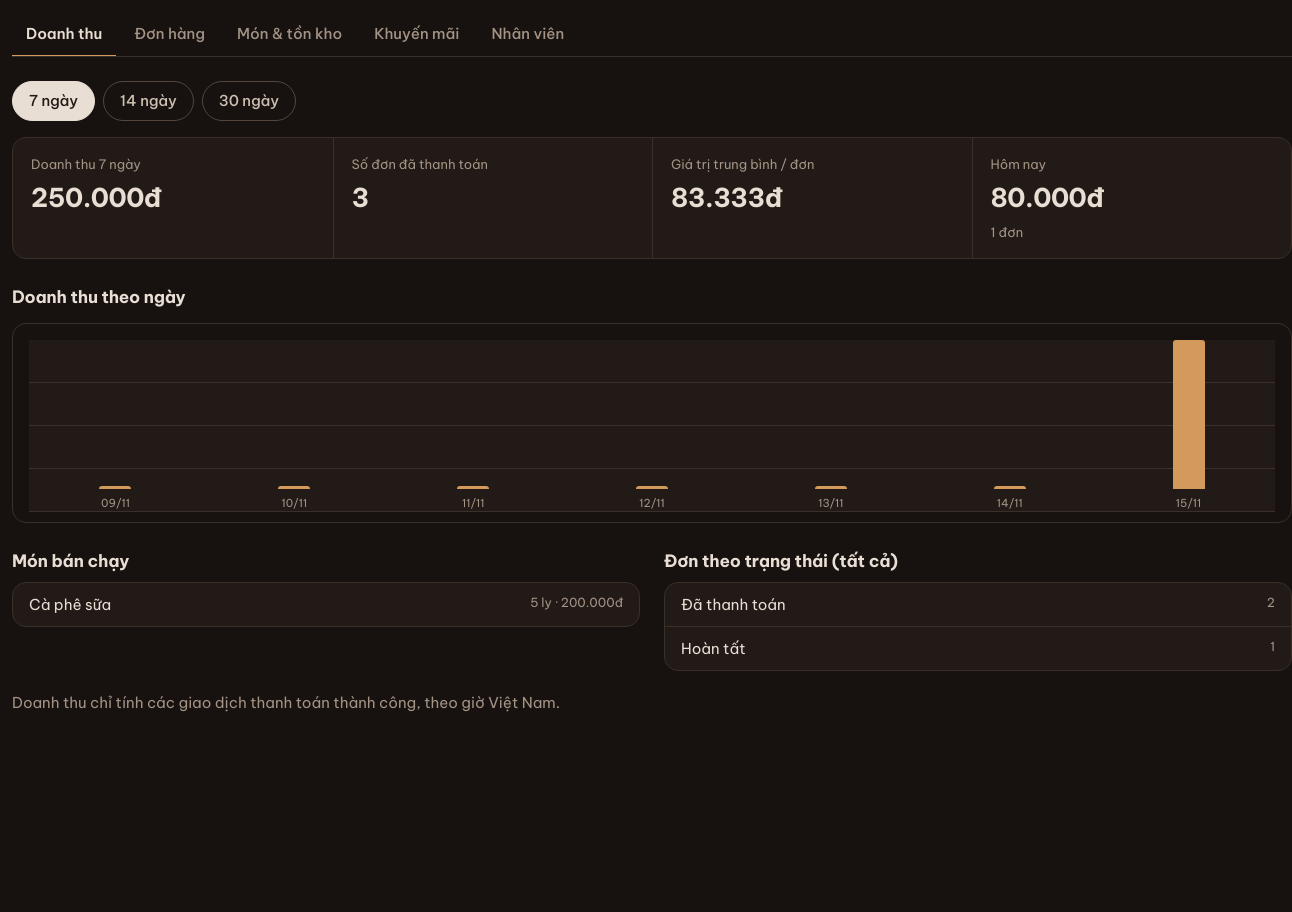
Scenario: AdminDashboard › tạo nhân viên: kiểm tra mật khẩu ở client, hợp lệ thì gọi API và thêm vào danh sách
Click the tab "Nhân viên". click: {"x": 528, "y": 35}
box: x1=478 y1=12 x2=578 y2=57
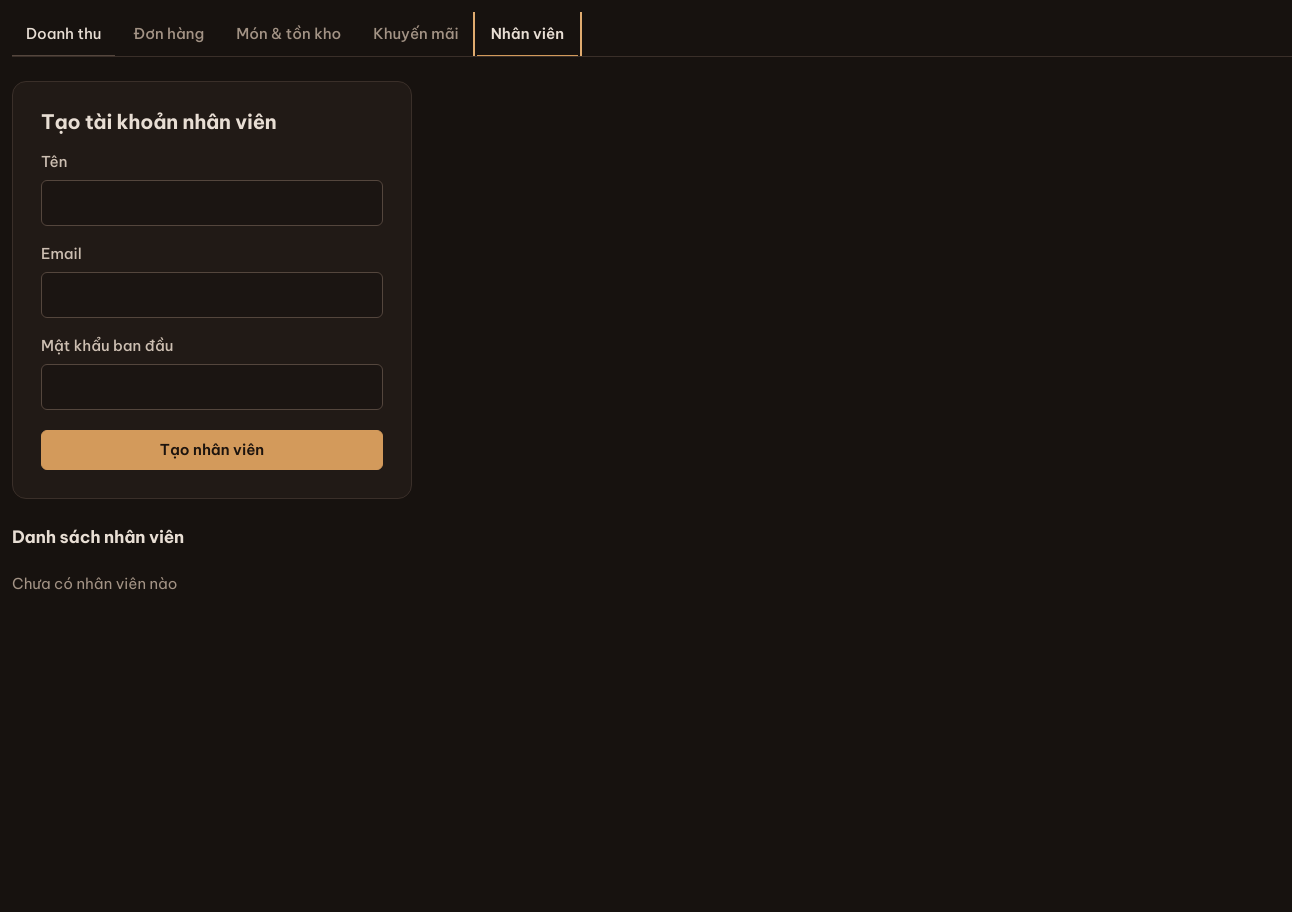
Type "Mới" into the field labelled "Tên". click: {"x": 212, "y": 203}
box: x1=41 y1=180 x2=383 y2=226
Type "m@b.com" into the field labelled "Email". click: {"x": 212, "y": 295}
box: x1=41 y1=272 x2=383 y2=318
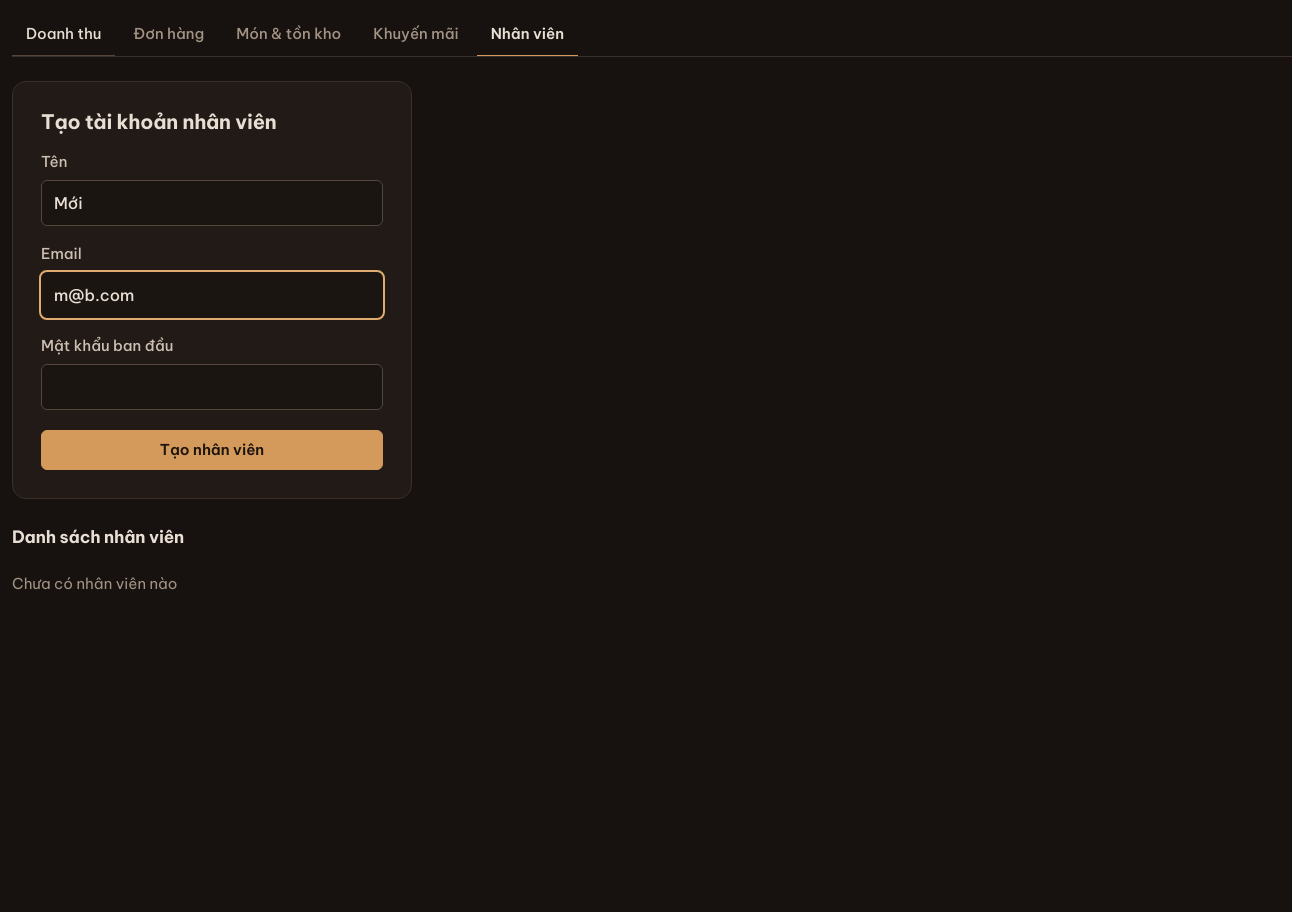
Type "123" into the password field labelled "Mật khẩu ban đầu". click: {"x": 212, "y": 387}
box: x1=41 y1=364 x2=383 y2=410
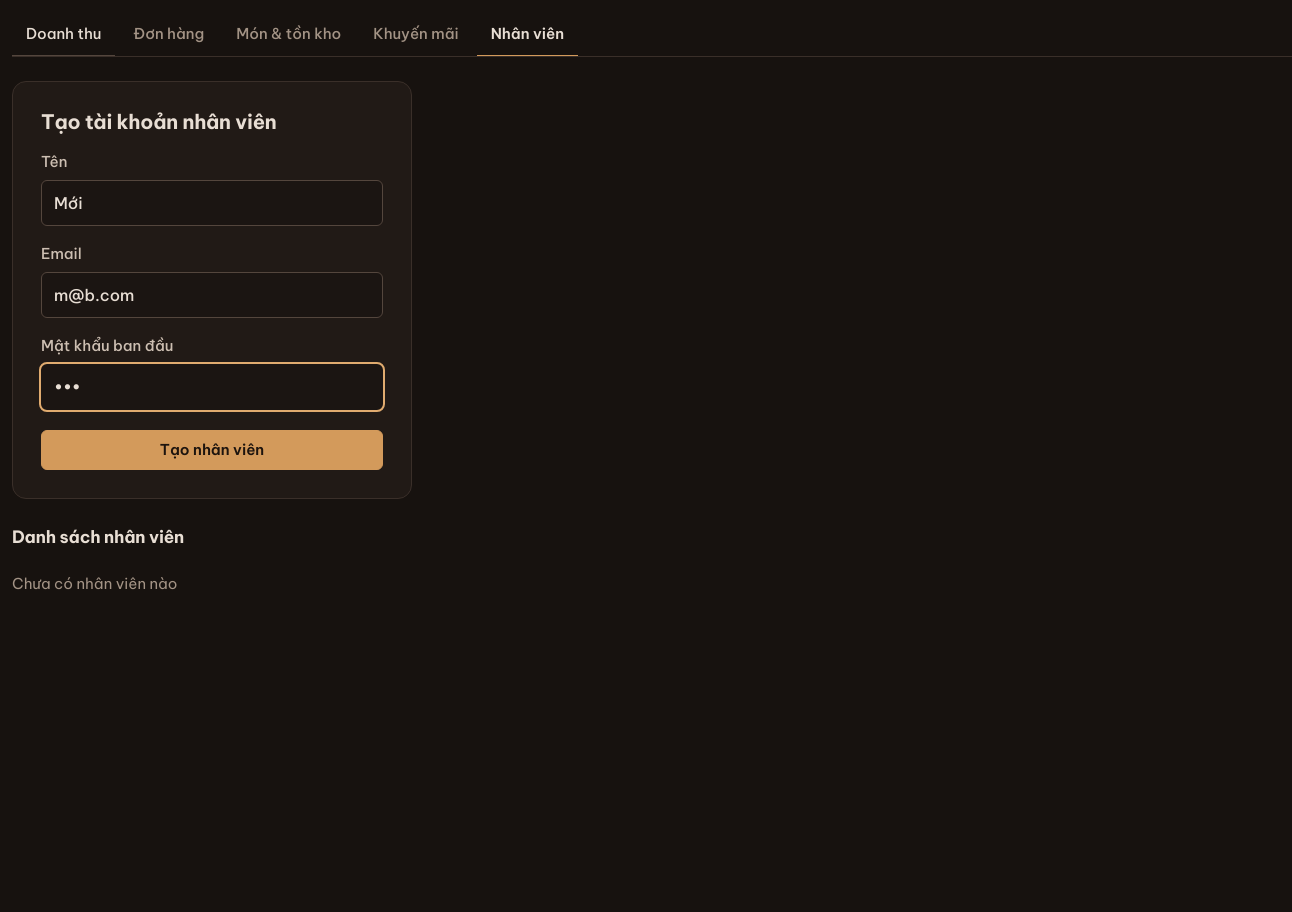
Click the button "Tạo nhân viên". click: {"x": 212, "y": 450}
box: x1=41 y1=430 x2=383 y2=470
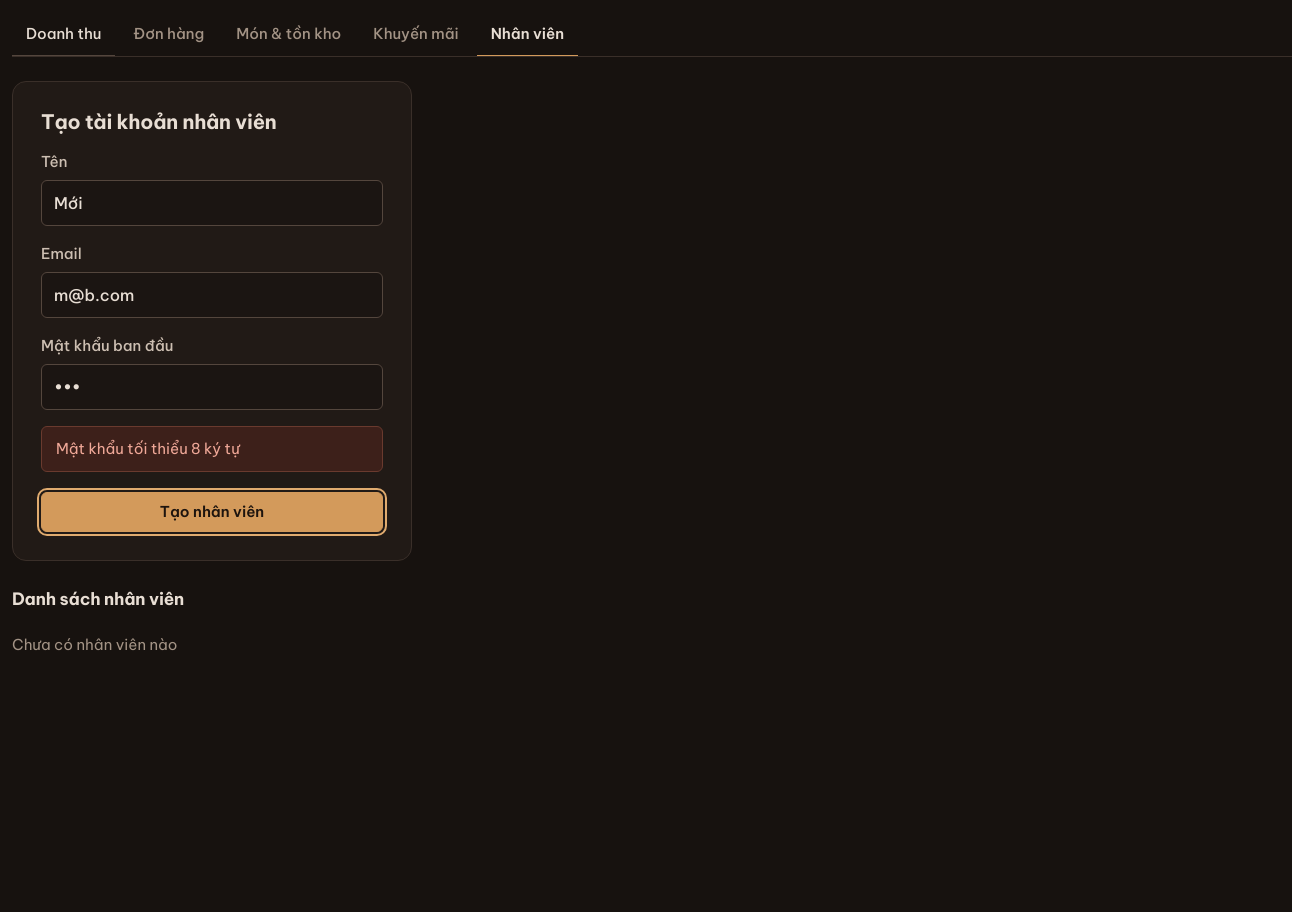
Check: the message reads "Mật khẩu tối thiểu 8 ký tự", box x1=56 y1=439 x2=240 y2=458
Type "45678" into the password field labelled "Mật khẩu ban đầu". click: {"x": 212, "y": 387}
box: x1=41 y1=364 x2=383 y2=410
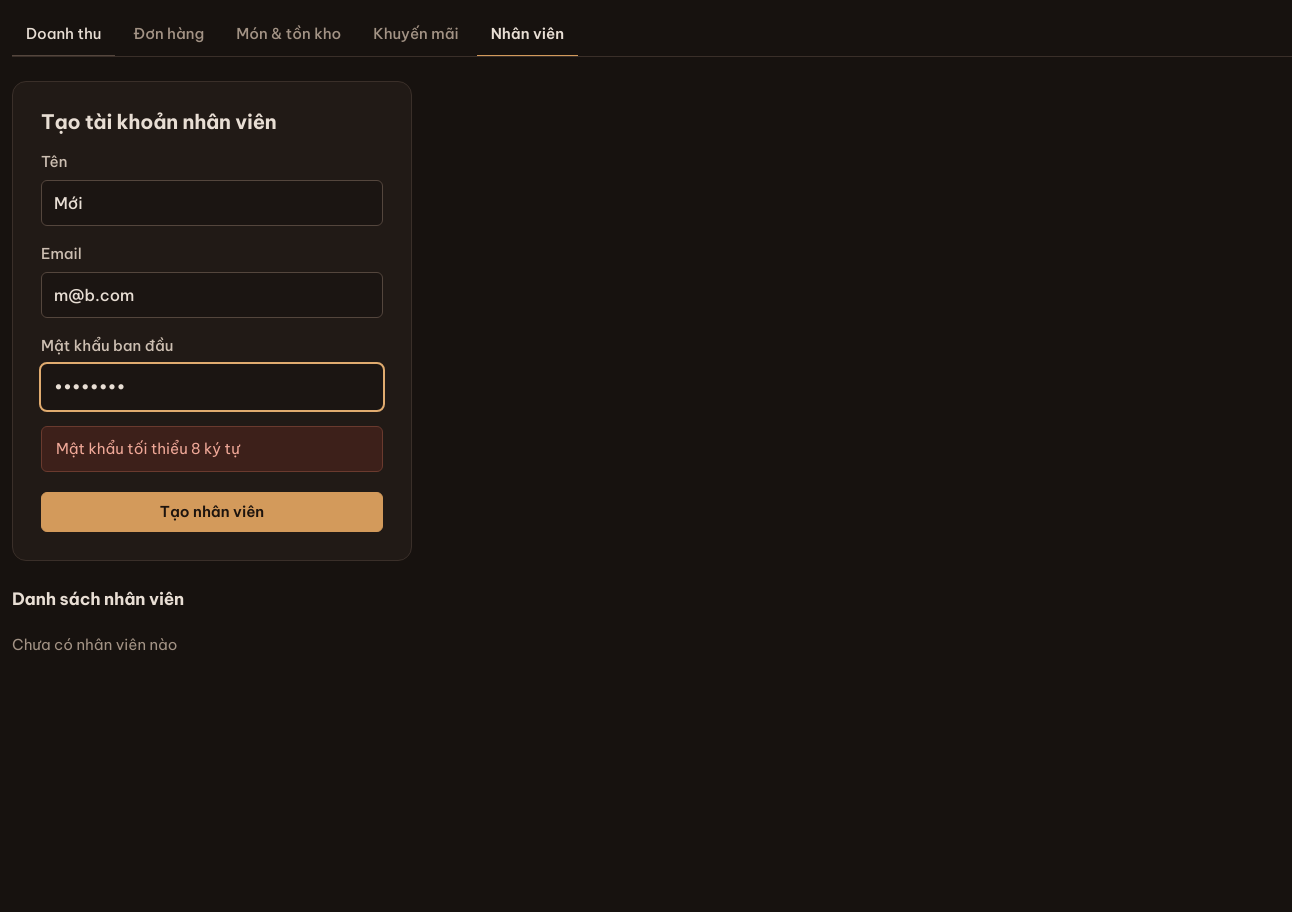
Click the button "Tạo nhân viên". click: {"x": 212, "y": 512}
box: x1=41 y1=492 x2=383 y2=532
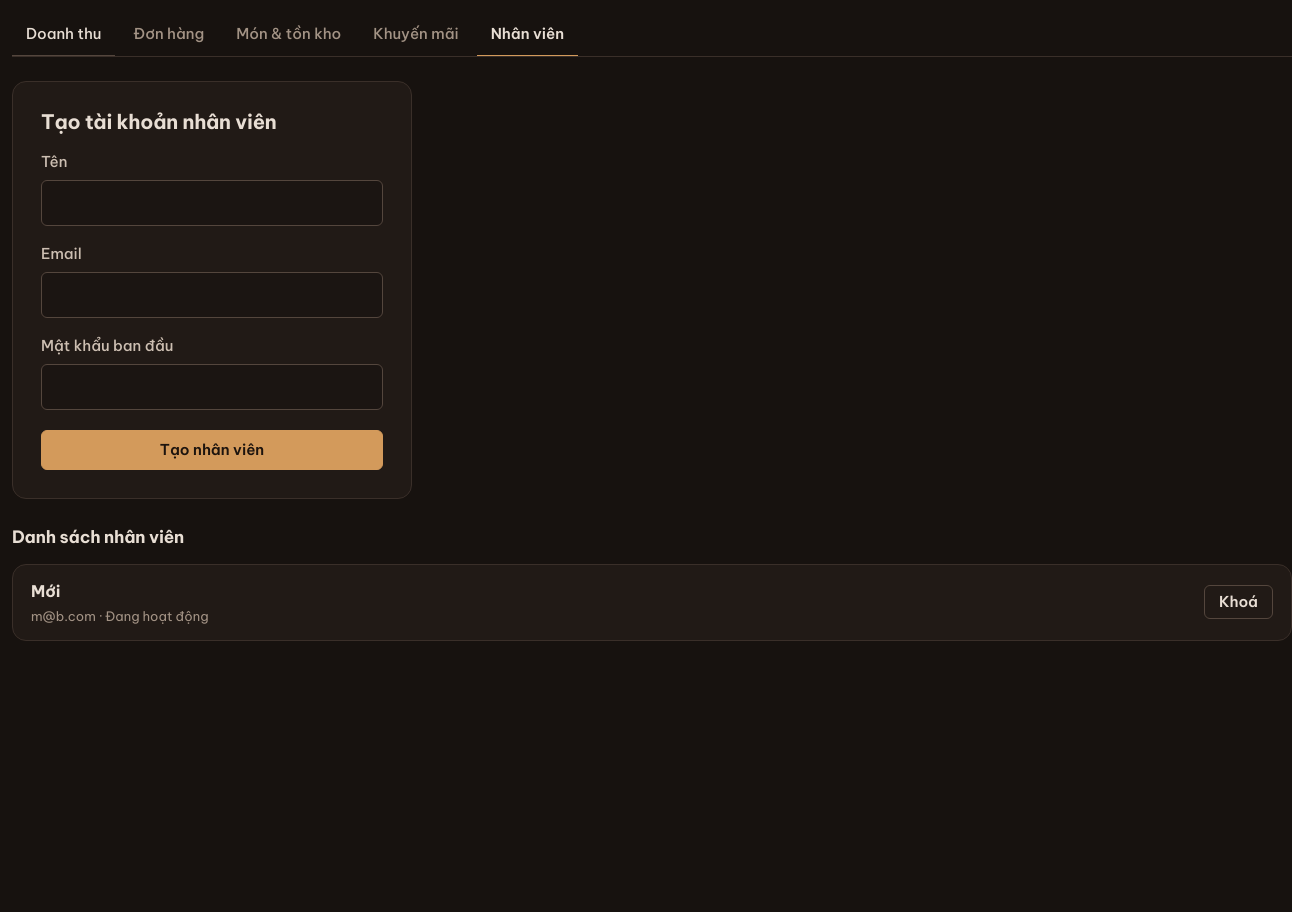
Check: the list item with test id "staff-row" shows "m@b.com", box x1=31 y1=608 x2=96 y2=624
